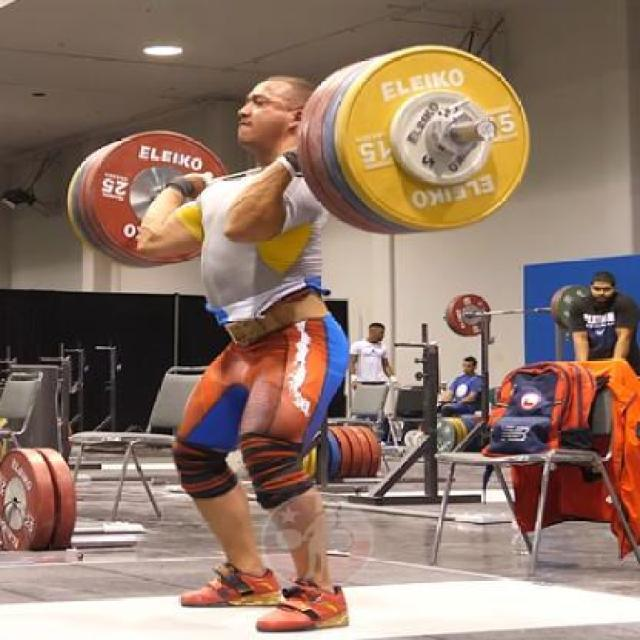barbell: (339, 40, 537, 238)
